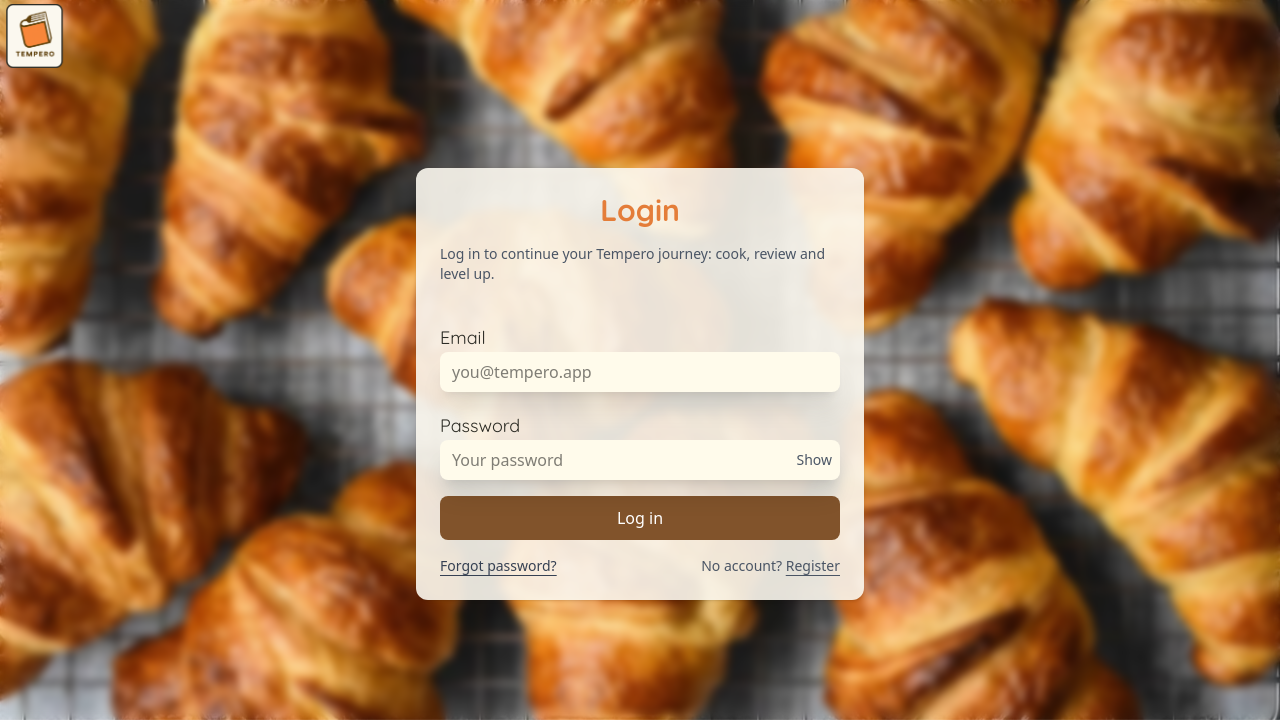
it: LoginPage › mostra erro quando credenciais são inválidas
This screenshot has width=1280, height=720.
Type "test@example.com" into the field labelled "Email" at (640, 372), box [440,352,840,392]
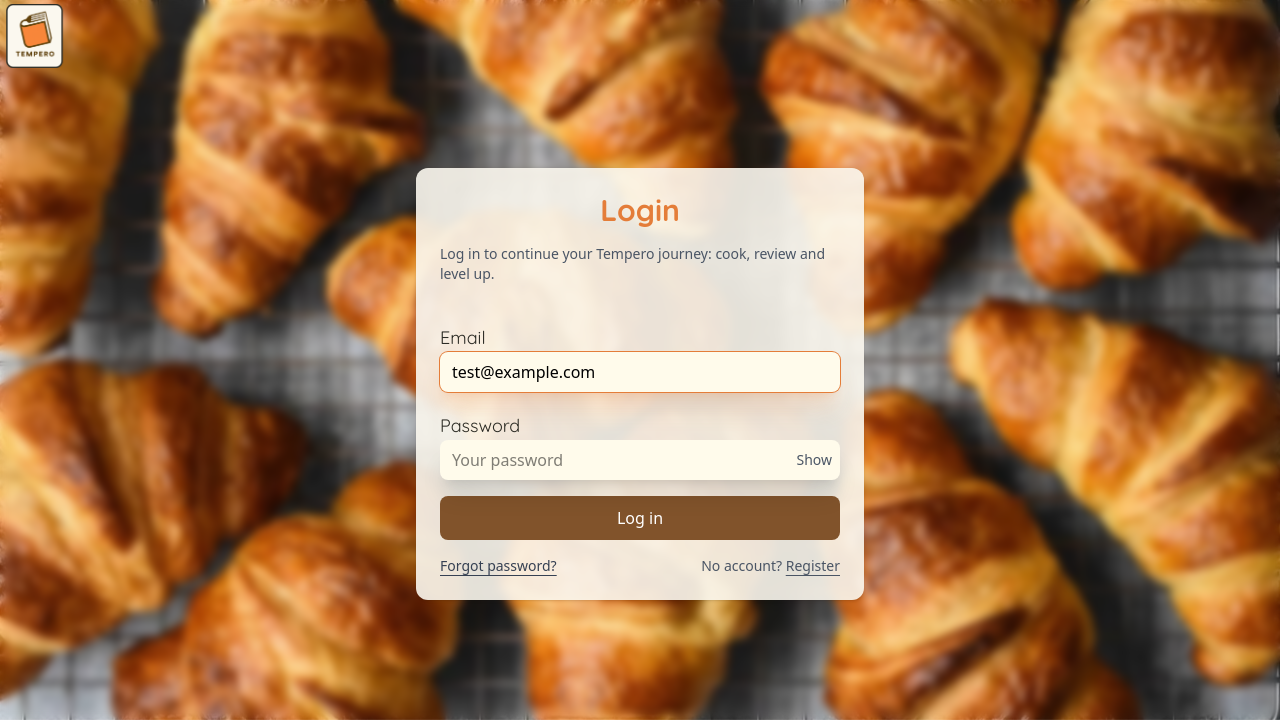
Type "wrongpass" into the password field labelled "Password" at (640, 460), box [440,440,840,480]
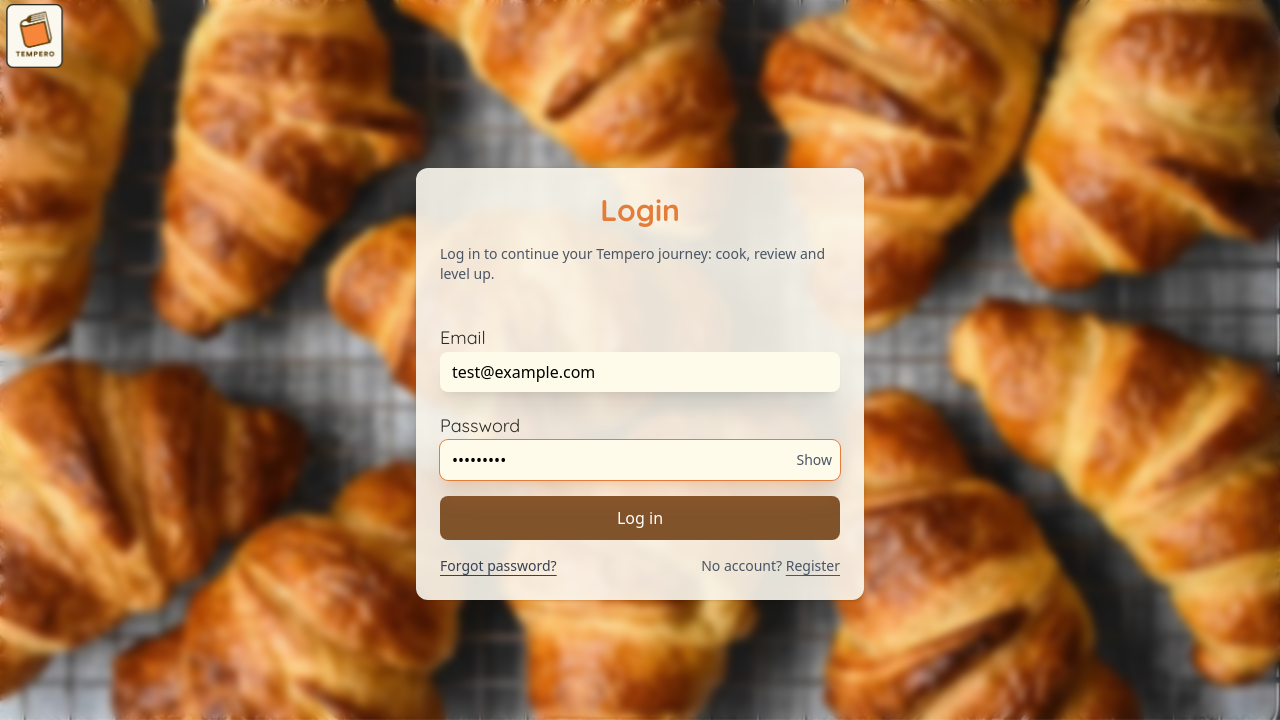
Click the button "Log in" at (640, 518), box [440,496,840,540]
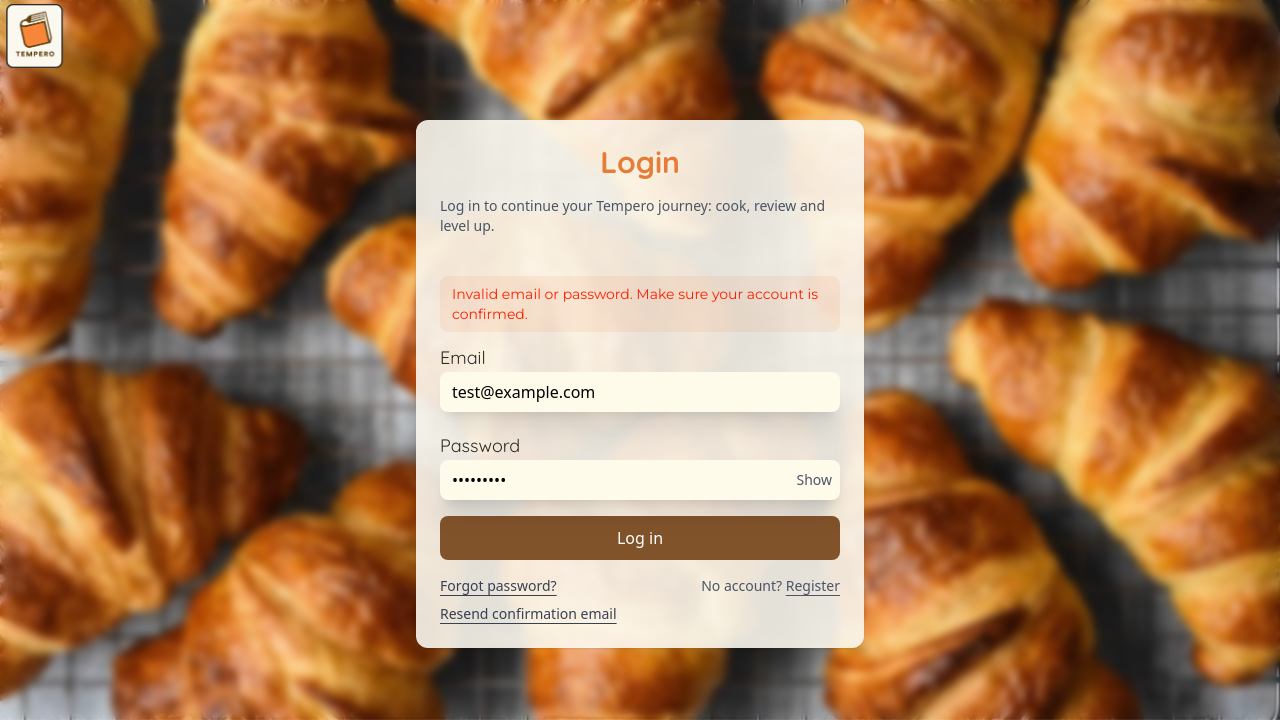
expect the text "Invalid email or password" is shown: met, box [452,285,818,323]
